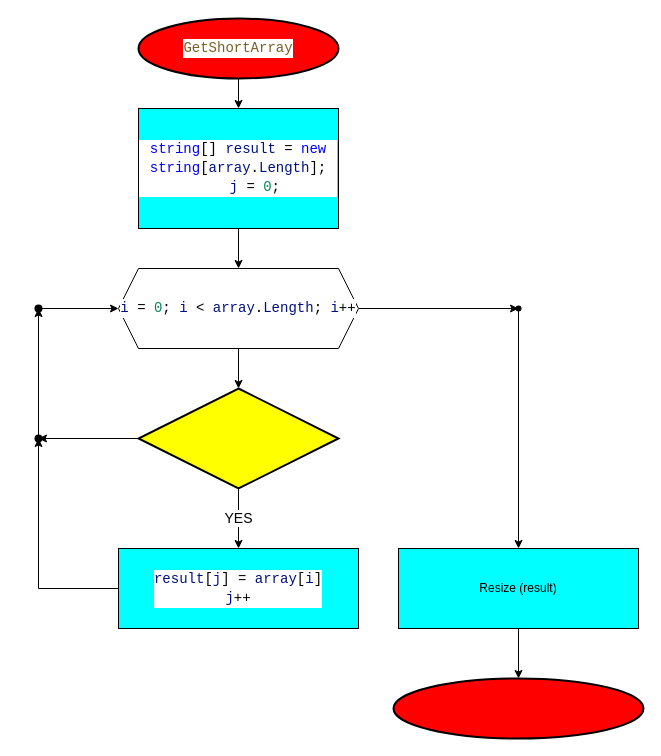
Image size: 661x756. Some labels were removed from this diagram. The centre of each missing label's shape, as x and y in pixels:
"array [ i ] . Length <= m" belongs at pixel 238 438.
"return result" belongs at pixel 518 708.
